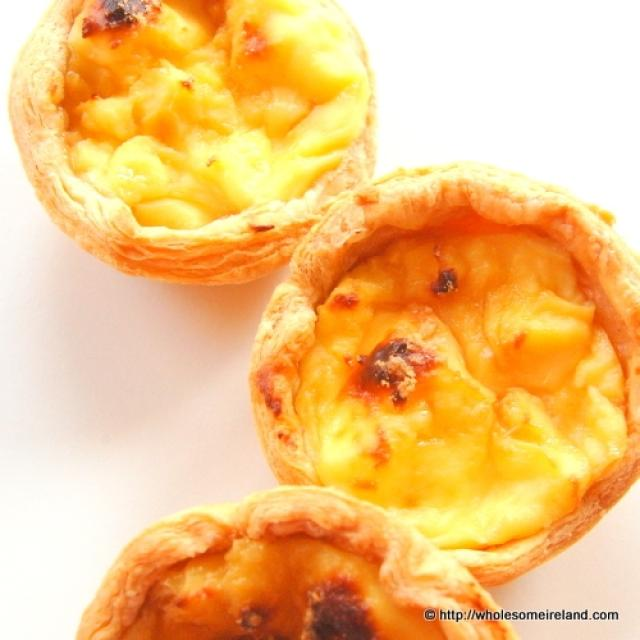炸货点心: (15, 10, 626, 618)
蛋糕甜品: (15, 10, 626, 618)
